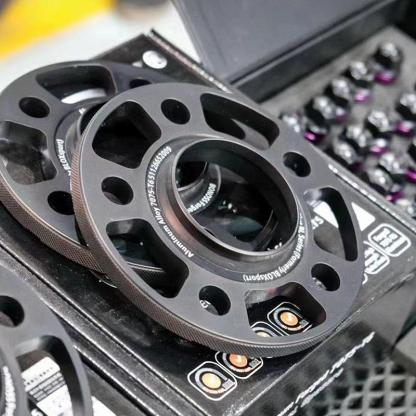FOD: (64, 77, 368, 359)
